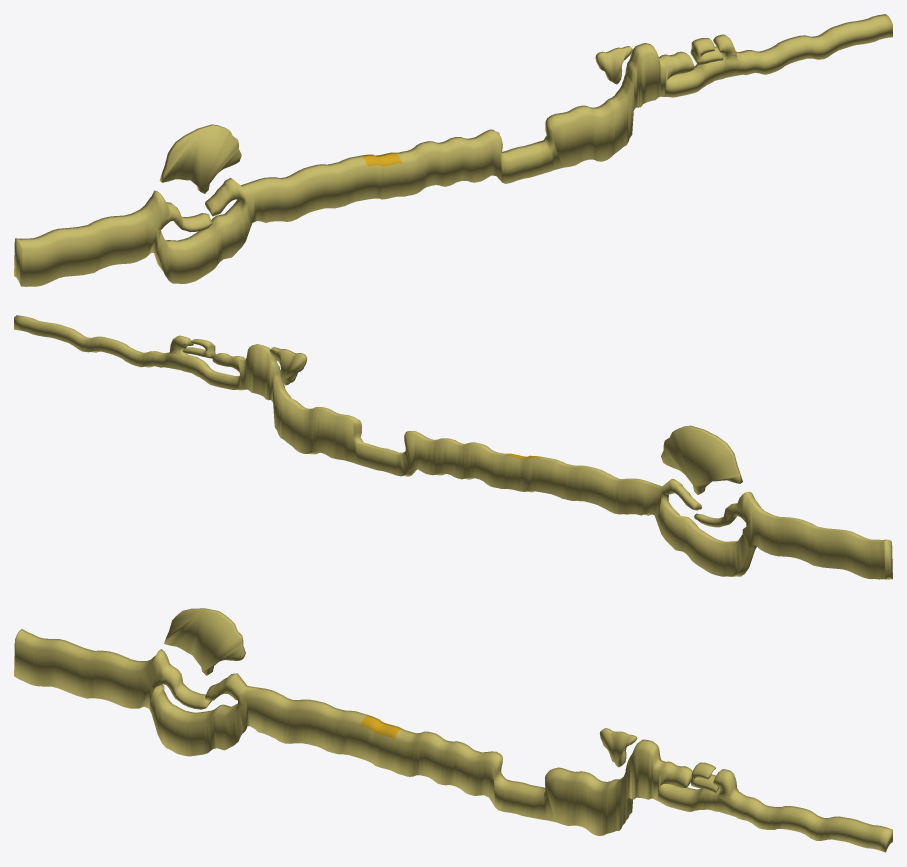
The model's file is Desert With Uv.fbx.
3 renders of one model, top to bottom at view 1: azimuth 30°, elevation 25°; view 2: azimuth 150°, elevation 25°; view 3: azimuth 330°, elevation 25°, orthographic.
Visible parts, largest first — view 1: MapaDesert; view 2: MapaDesert; view 3: MapaDesert.
Boxes of the visible parts, bbox=[...] form: MapaDesert: bbox=[14, 14, 892, 286]; MapaDesert: bbox=[14, 315, 892, 579]; MapaDesert: bbox=[14, 608, 892, 852].
Size of the model in its own units: 68671 by 11010 by 1063.
